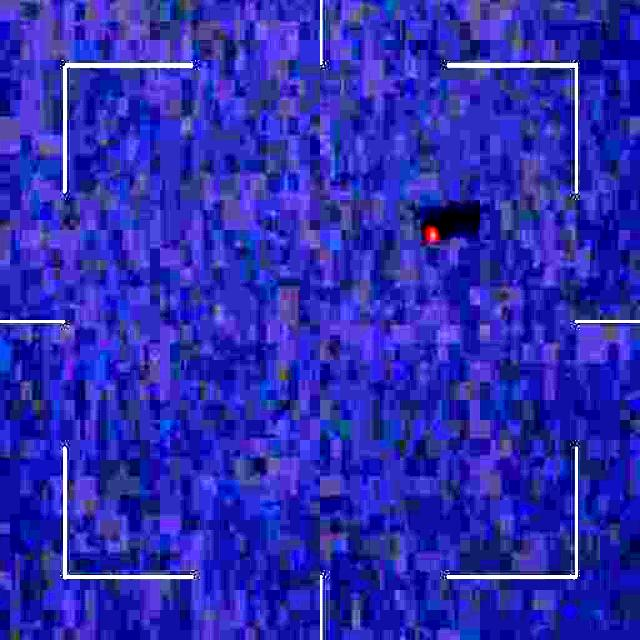bird: (416, 212, 442, 255)
